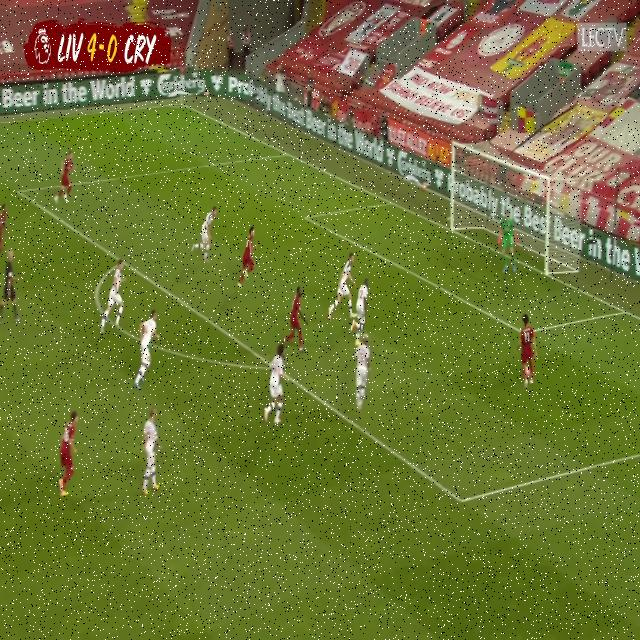Ball: (526, 366, 530, 376)
GoalKeeper: (496, 210, 518, 277)
TEAM 1: (55, 412, 81, 498), (282, 286, 309, 354), (517, 312, 539, 386), (238, 229, 255, 292), (57, 150, 74, 204), (0, 197, 9, 258)
TEAM 2: (96, 260, 127, 332), (135, 310, 161, 392), (140, 409, 163, 495), (265, 344, 288, 428), (328, 254, 356, 323), (354, 336, 372, 408), (198, 204, 219, 260), (356, 279, 370, 336)
